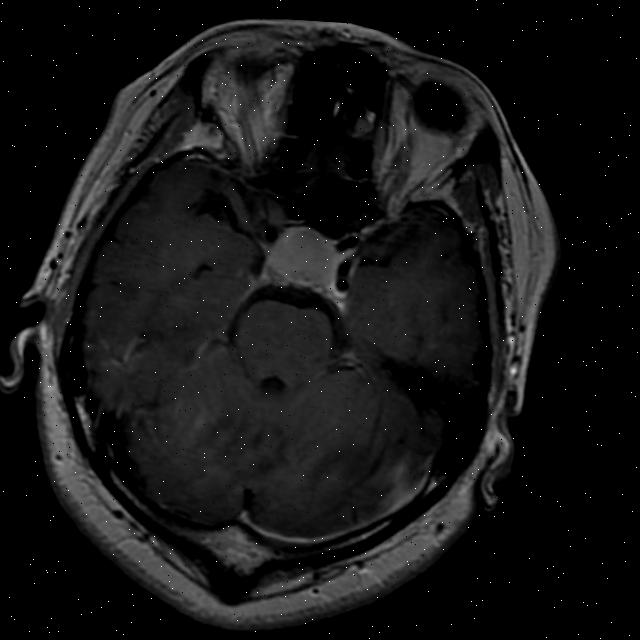Pituitary: (259, 215, 349, 296)
